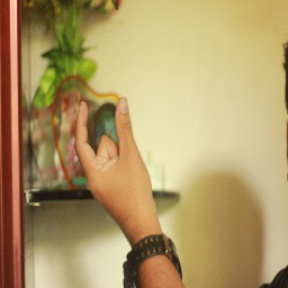U: (62, 90, 162, 209)
